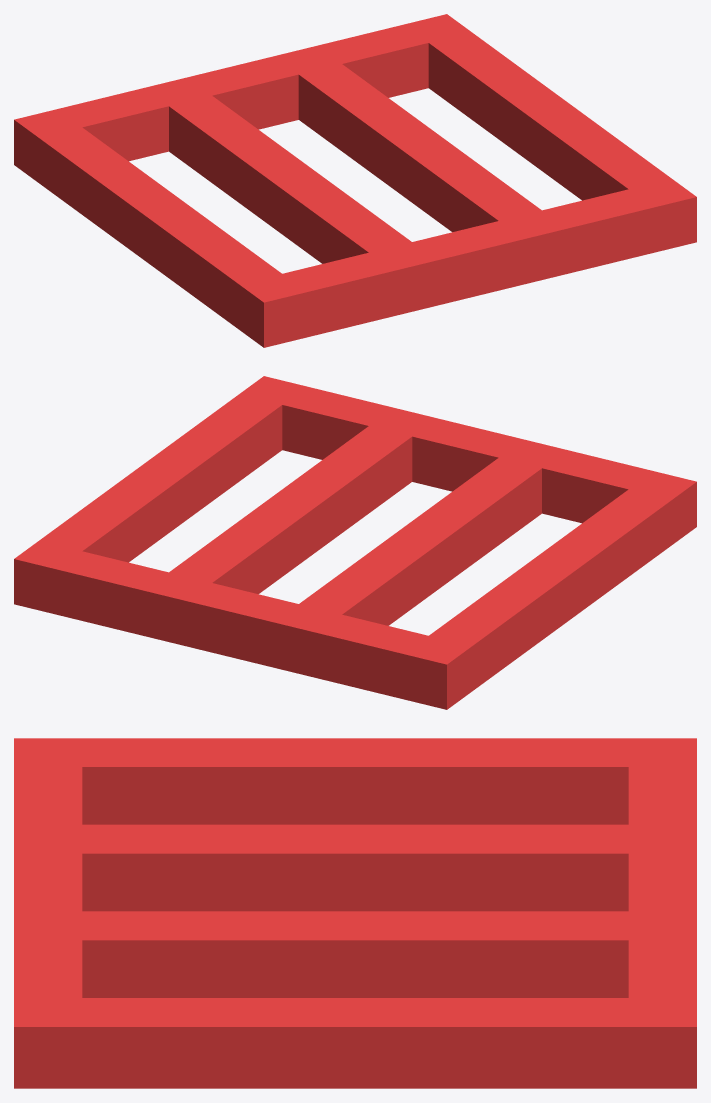
File: Grill.obj
The picture shows the model from 3 angles, top to bottom: view 1: azimuth 30°, elevation 25°; view 2: azimuth 150°, elevation 25°; view 3: azimuth 270°, elevation 25°; orthographic projection. The views are drawn at different scales.
Size of the model in its own units: 1 by 0.1 by 1.
1 material, 1 textured.
